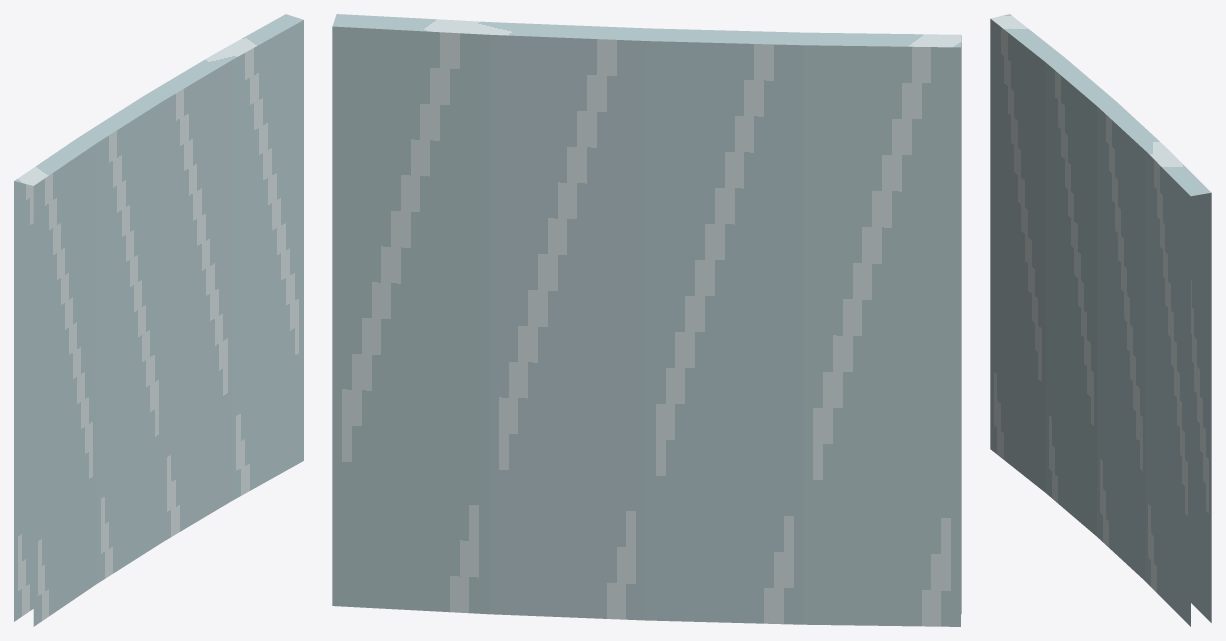
File: curve_glass_11.obj
3 renders of one model, left to right at view 1: azimuth 30°, elevation 25°; view 2: azimuth 150°, elevation 25°; view 3: azimuth 270°, elevation 25°, orthographic. The views are drawn at different scales.
Parts seen in each view (by area): view 1: curve_glass_11; view 2: curve_glass_11; view 3: curve_glass_11.
Part boxes in pixels (x1,y1,x2,y2): curve_glass_11: (14,14,303,626); curve_glass_11: (332,14,961,626); curve_glass_11: (990,14,1211,626).
Bounding box in the file's own units: 0.9076 × 1 × 0.4653.
